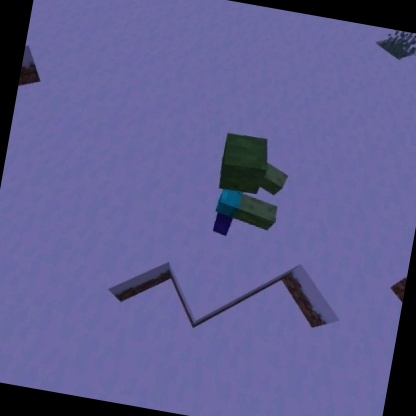zombie: (204, 127, 297, 248)
